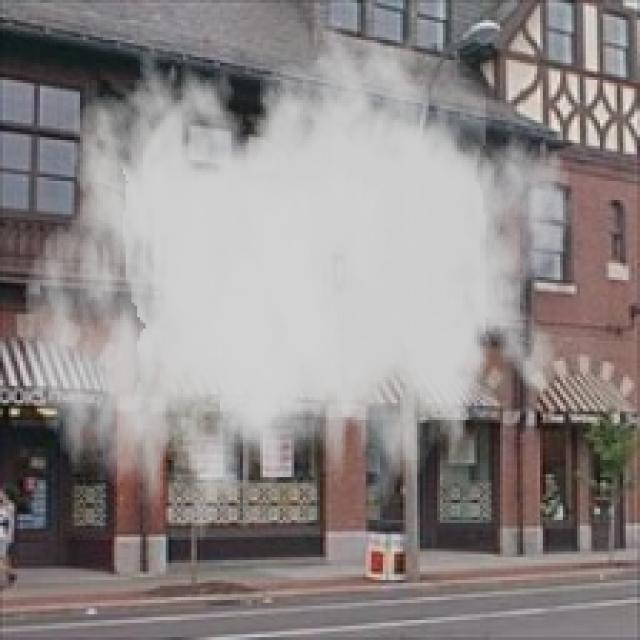Smoke: (22, 8, 574, 566)
